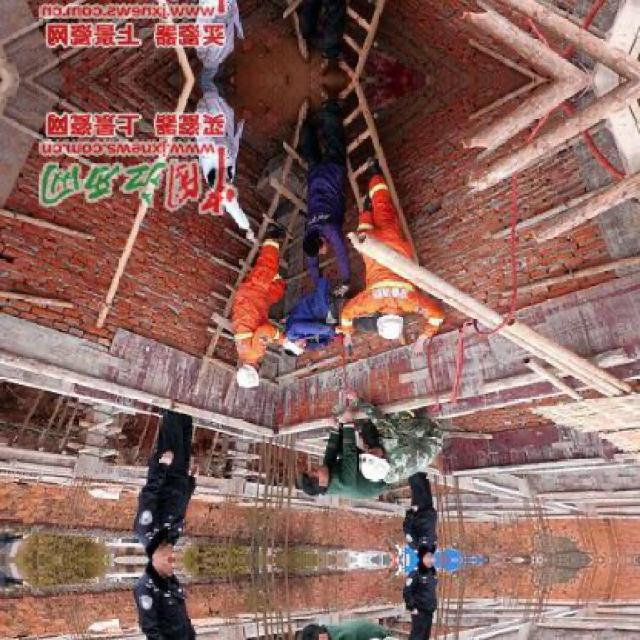con casco: (348, 425, 420, 486), (225, 342, 295, 404), (351, 298, 416, 351)
